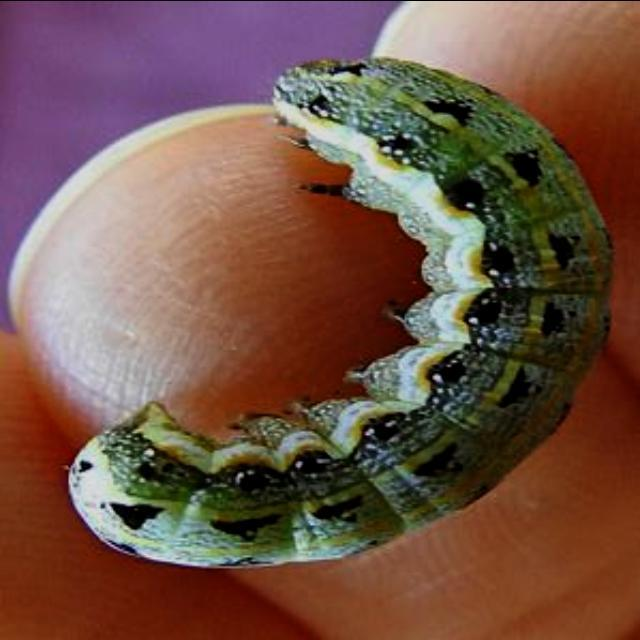Tobacco cutworm: (43, 31, 627, 592)
